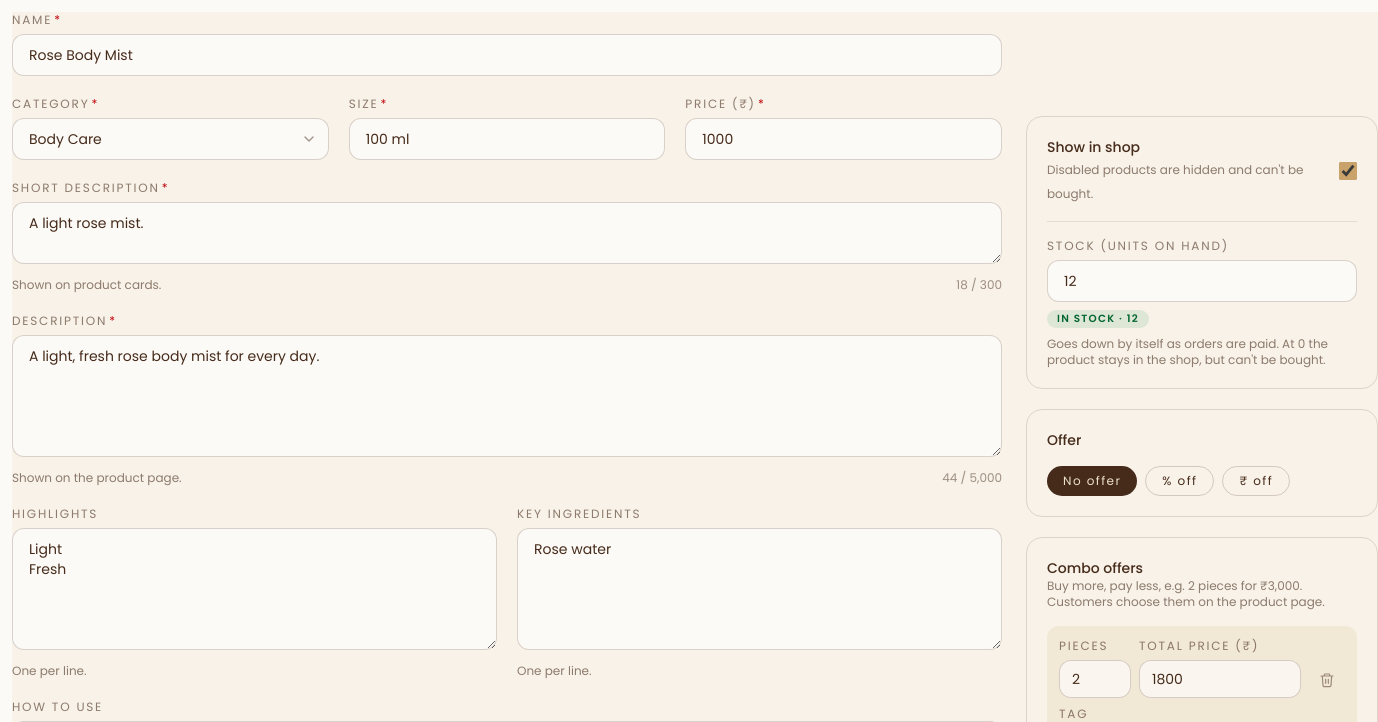
Test: ProductForm: editing › price and stock boxes only take digits
Replace the text in the field labelled "Price (₹)*" with "1,2.5o0" at [844, 139], box [685, 118, 1002, 160]
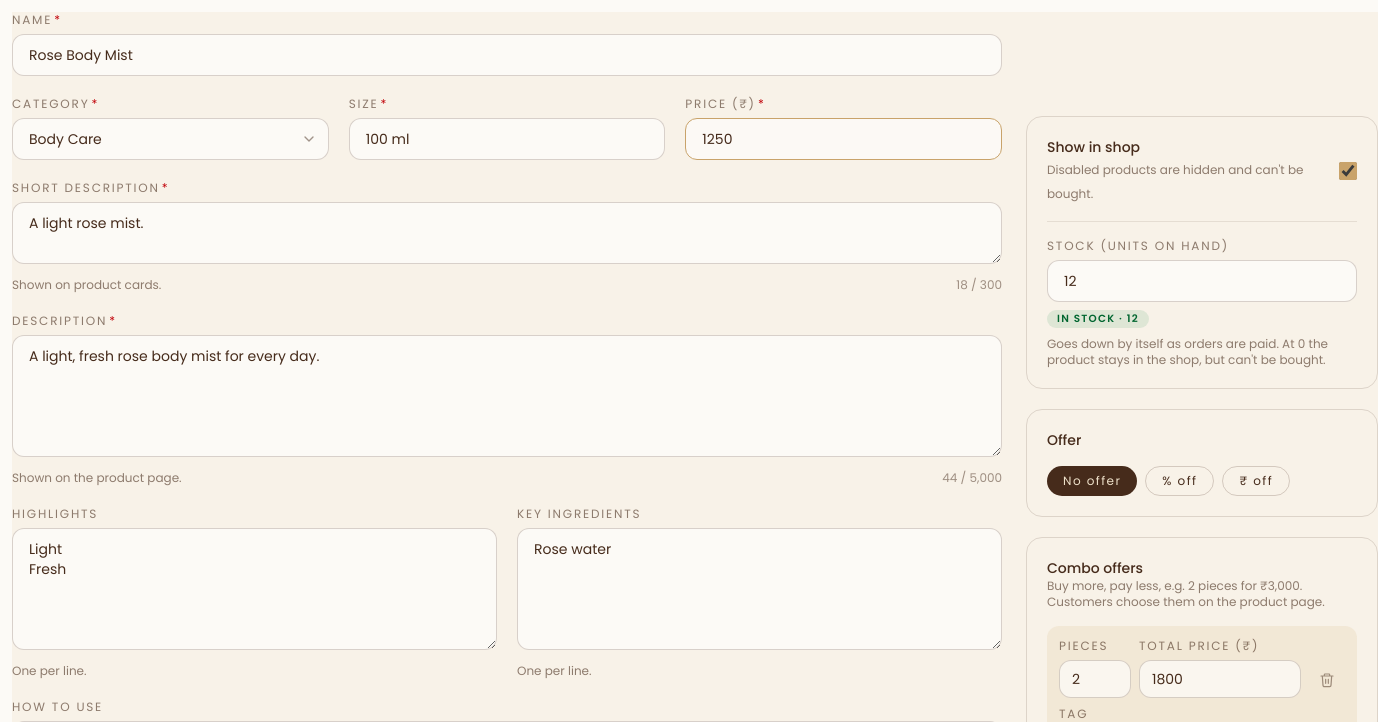
Result: the field labelled "Price (₹)*" holds "1250" at [685, 118, 1002, 160]
Replace the text in the field labelled "Stock (units on hand)" with "-3" at [1202, 281], box [1047, 260, 1357, 302]
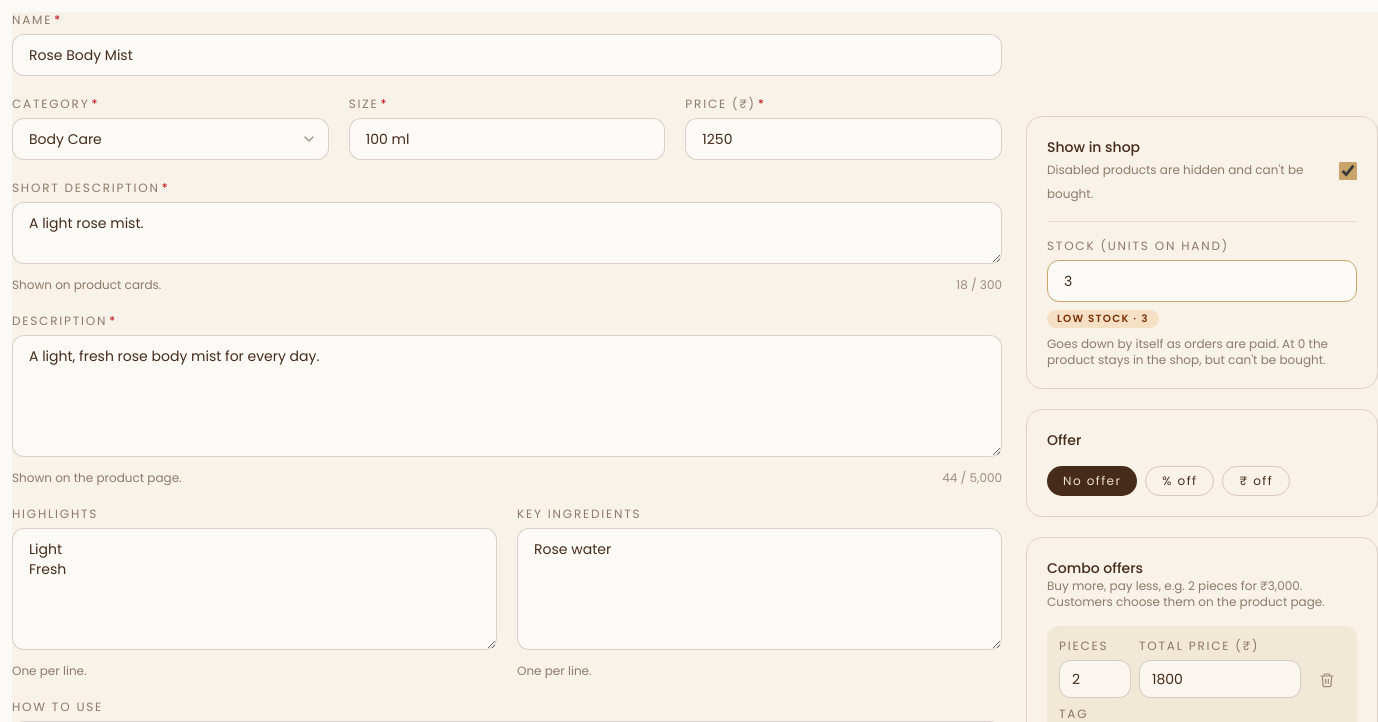
Result: the field labelled "Stock (units on hand)" holds "3" at [1047, 260, 1357, 302]
